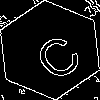C: (25, 25, 87, 83)
